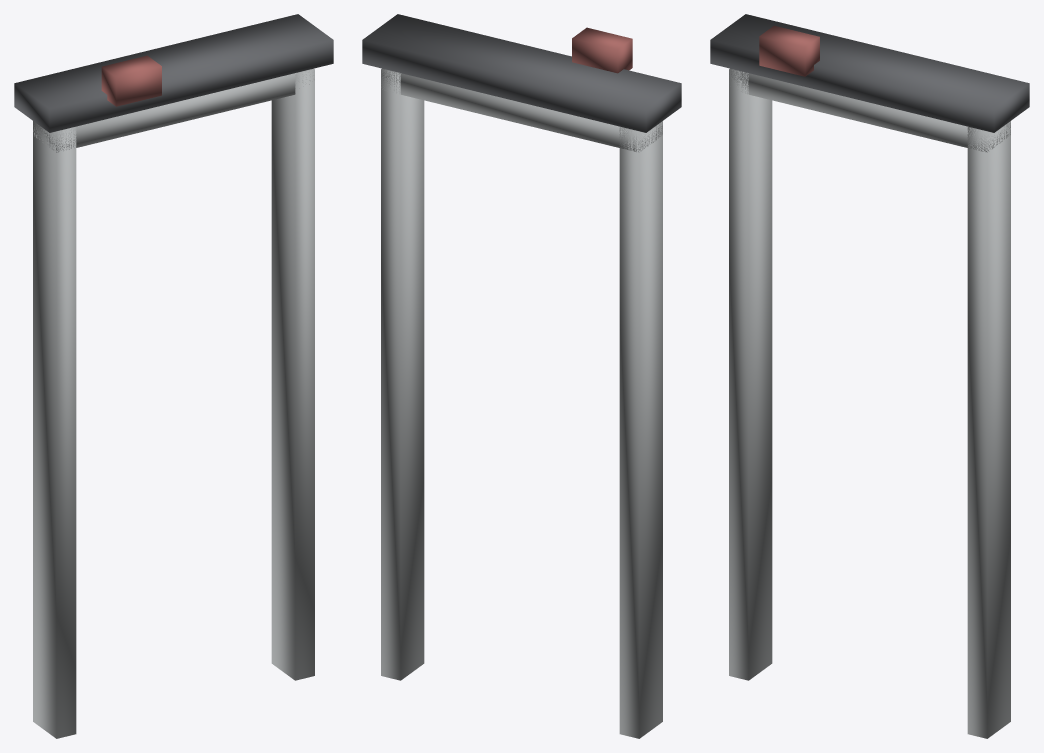
Rendered from doorway_fire_rated_w86_h220_d16.glb.
3 renders of one model, left to right at view 1: azimuth 30°, elevation 25°; view 2: azimuth 150°, elevation 25°; view 3: azimuth 330°, elevation 25°, orthographic.
Visible parts, largest first — view 1: world; view 2: world; view 3: world.
Boxes of the visible parts, x1,y1,x2,y2 form: world: [14, 14, 333, 738]; world: [362, 14, 681, 738]; world: [710, 14, 1029, 738].
Size of the model in its own units: 1.11 by 2.48 by 0.3.
